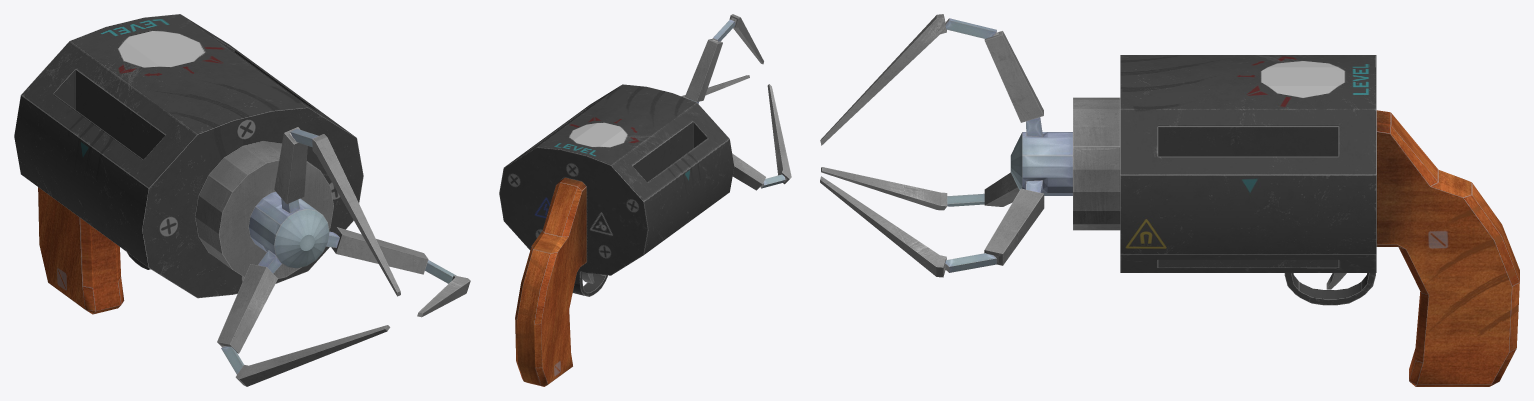
File: GrappleGun_Separated.fbx
3 renders of one model, left to right at view 1: azimuth 30°, elevation 25°; view 2: azimuth 150°, elevation 25°; view 3: azimuth 270°, elevation 25°, orthographic. The views are drawn at different scales.
Parts seen in each view (by area): view 1: GrappleGun_Held, GrappleHook_Root, Claw_01_Base, Claw_03_Tip, Claw_01_Tip, Claw_02_Base, Claw_03_Base, Claw_02_Tip; view 2: GrappleGun_Held, Claw_03_Base, Claw_01_Tip, Claw_01_Base, Claw_03_Tip, Claw_02_Tip; view 3: GrappleGun_Held, GrappleHook_Root, Claw_03_Base, Claw_02_Base, Claw_02_Tip, Claw_03_Tip, Claw_01_Tip, Claw_01_Base, Claw_02_Mid, Claw_03_Mid.
Boxes of the visible parts, bbox=[...] form: GrappleGun_Held: bbox=[14, 14, 363, 314]; GrappleHook_Root: bbox=[248, 192, 339, 273]; Claw_01_Base: bbox=[217, 264, 277, 353]; Claw_03_Tip: bbox=[312, 134, 400, 296]; Claw_01_Tip: bbox=[235, 325, 390, 386]; Claw_02_Base: bbox=[331, 227, 428, 274]; Claw_03_Base: bbox=[274, 127, 307, 203]; Claw_02_Tip: bbox=[417, 275, 470, 317]; GrappleGun_Held: bbox=[499, 84, 734, 386]; Claw_03_Base: bbox=[685, 38, 722, 101]; Claw_01_Tip: bbox=[767, 84, 791, 184]; Claw_01_Base: bbox=[732, 153, 765, 190]; Claw_03_Tip: bbox=[729, 14, 763, 64]; Claw_02_Tip: bbox=[681, 75, 749, 99]; GrappleGun_Held: bbox=[1073, 55, 1519, 386]; GrappleHook_Root: bbox=[1010, 117, 1072, 195]; Claw_03_Base: bbox=[984, 31, 1043, 122]; Claw_02_Base: bbox=[984, 188, 1044, 265]; Claw_02_Tip: bbox=[820, 176, 946, 277]; Claw_03_Tip: bbox=[820, 14, 946, 145]; Claw_01_Tip: bbox=[821, 167, 947, 210]; Claw_01_Base: bbox=[984, 172, 1019, 206]; Claw_02_Mid: bbox=[945, 253, 996, 272]; Claw_03_Mid: bbox=[945, 18, 996, 38].
Bounding box in the file's own units: 2145 × 3054 × 5460.
